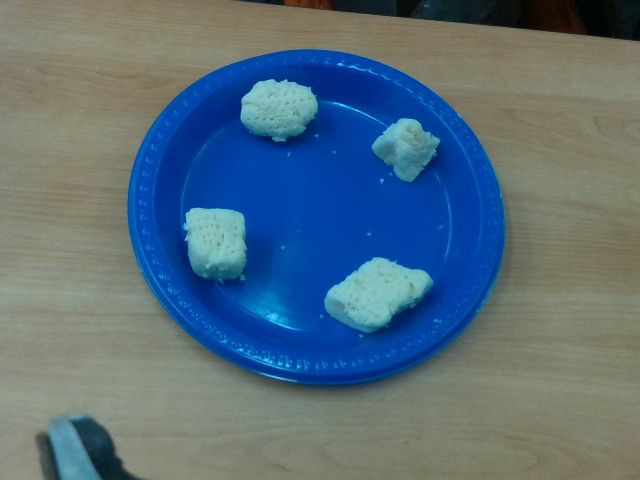mashed_potato: (325, 257, 434, 333), (240, 79, 316, 141), (185, 207, 246, 278), (372, 118, 439, 181)
